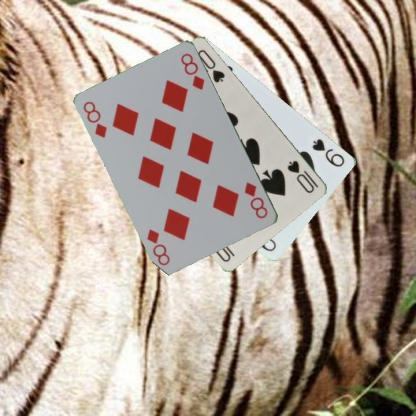10s: (284, 158, 320, 194)
8d: (81, 99, 109, 139), (242, 179, 269, 220)
9s: (310, 136, 346, 168)
